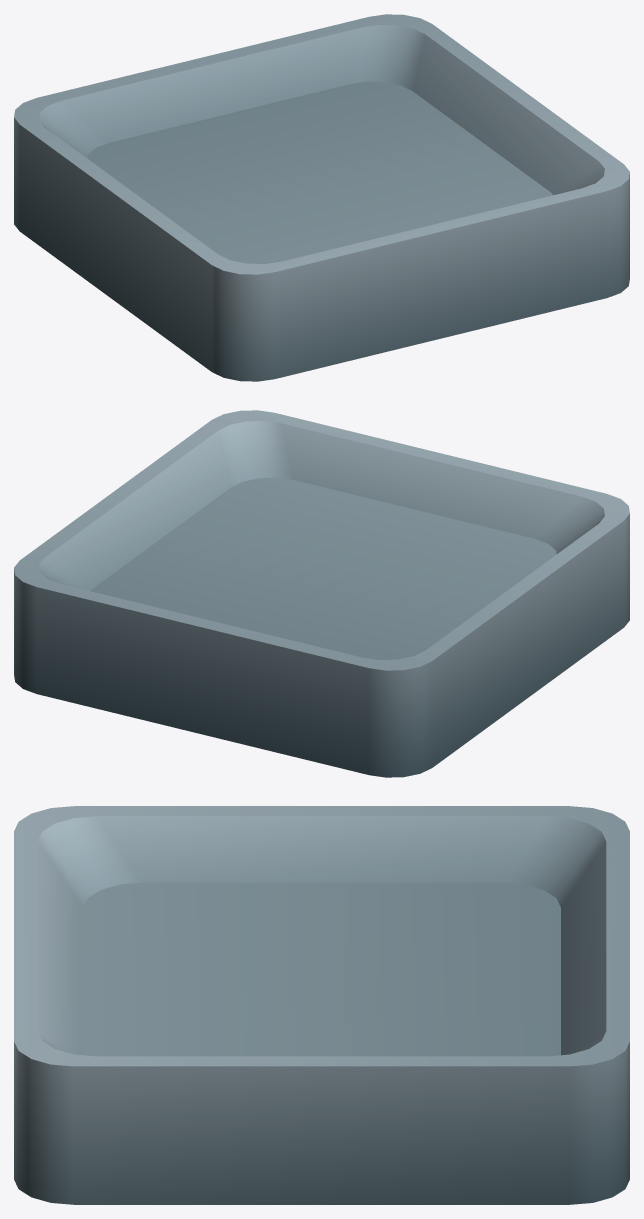
Rendered from Spawn_Point.fbx.
3 renders of one model, top to bottom at view 1: azimuth 30°, elevation 25°; view 2: azimuth 150°, elevation 25°; view 3: azimuth 270°, elevation 25°, orthographic. The views are drawn at different scales.
Visible parts, largest first — view 1: Spawn_Point; view 2: Spawn_Point; view 3: Spawn_Point.
Part boxes in pixels (<box>): Spawn_Point: <box>14,14,629,381</box>; Spawn_Point: <box>14,410,629,777</box>; Spawn_Point: <box>14,806,629,1204</box>.
Bounding box in the file's own units: 354 × 87.81 × 354.
